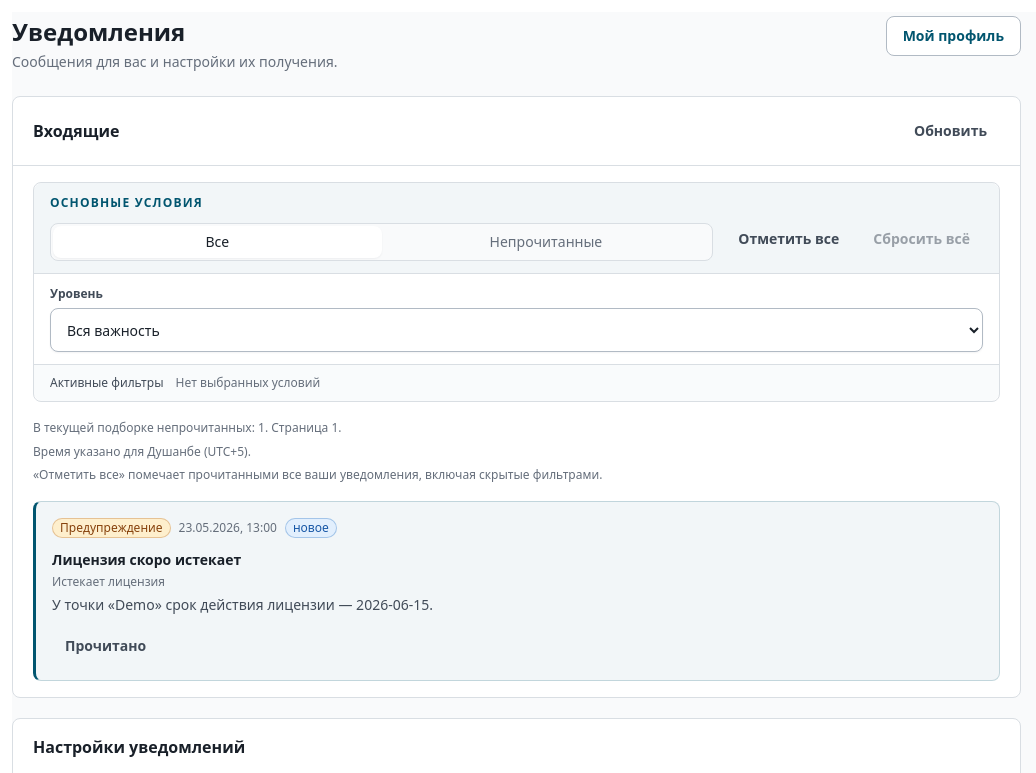
it: NotificationsPage › shows an inline error when marking all notifications fails
This screenshot has width=1036, height=773.
Expected: the text "Лицензия скоро истекает" is shown, [52,550,241,568]
What coordinates should you click on to do the following:
click the button "Отметить все"
I would click on:
 (789, 239)
Its box is [725,221,852,257].
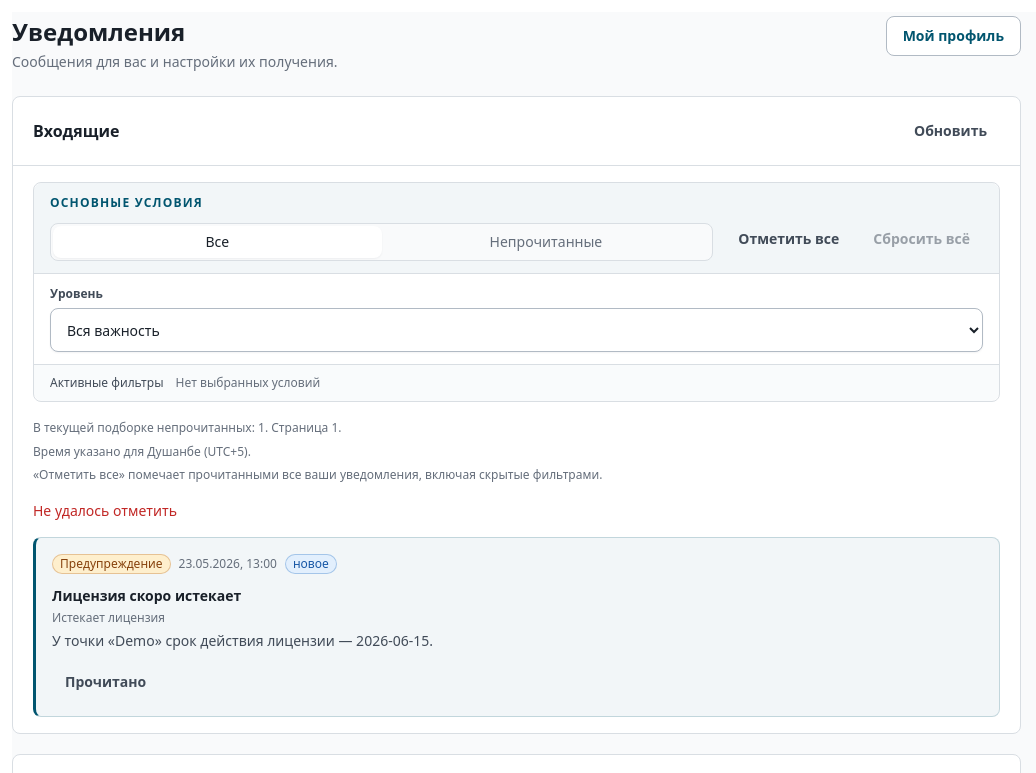
Now the text "Не удалось отметить" is shown, box [33,500,177,520]
